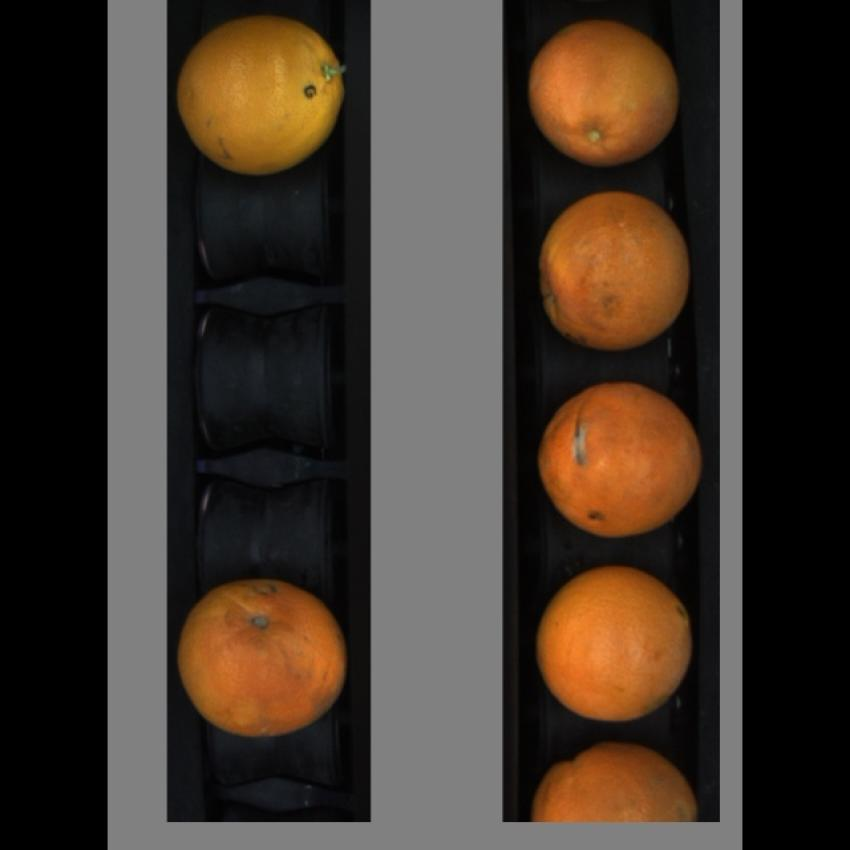Buen estado: (532, 564, 698, 730)
Mal estado: (171, 15, 352, 187), (173, 574, 357, 736), (538, 377, 704, 532), (534, 190, 693, 350), (526, 19, 690, 174), (530, 739, 706, 826)
